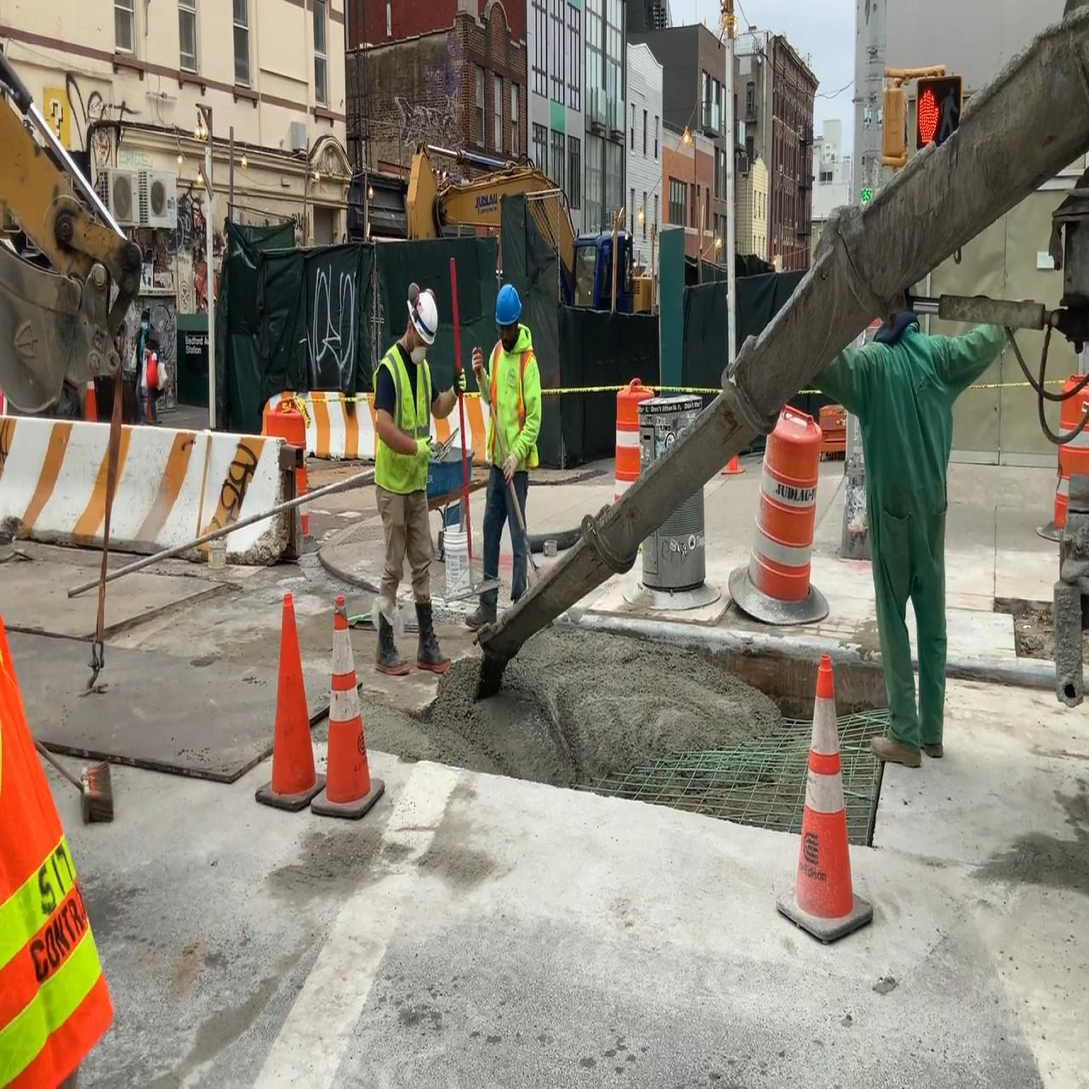NO_Safety_Vest: (860, 317, 954, 537)
Person: (811, 252, 1017, 768), (368, 274, 465, 681), (465, 282, 540, 636)
Safety_Vest: (0, 622, 116, 1088), (378, 345, 447, 501), (487, 340, 536, 474)
